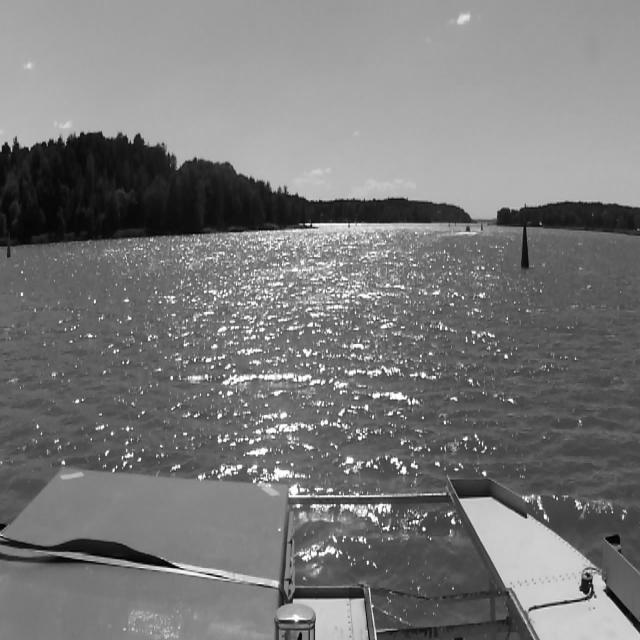buoy: (520, 228, 529, 266), (478, 217, 484, 234), (345, 215, 351, 231), (7, 234, 11, 257)
ship: (464, 221, 470, 234)
